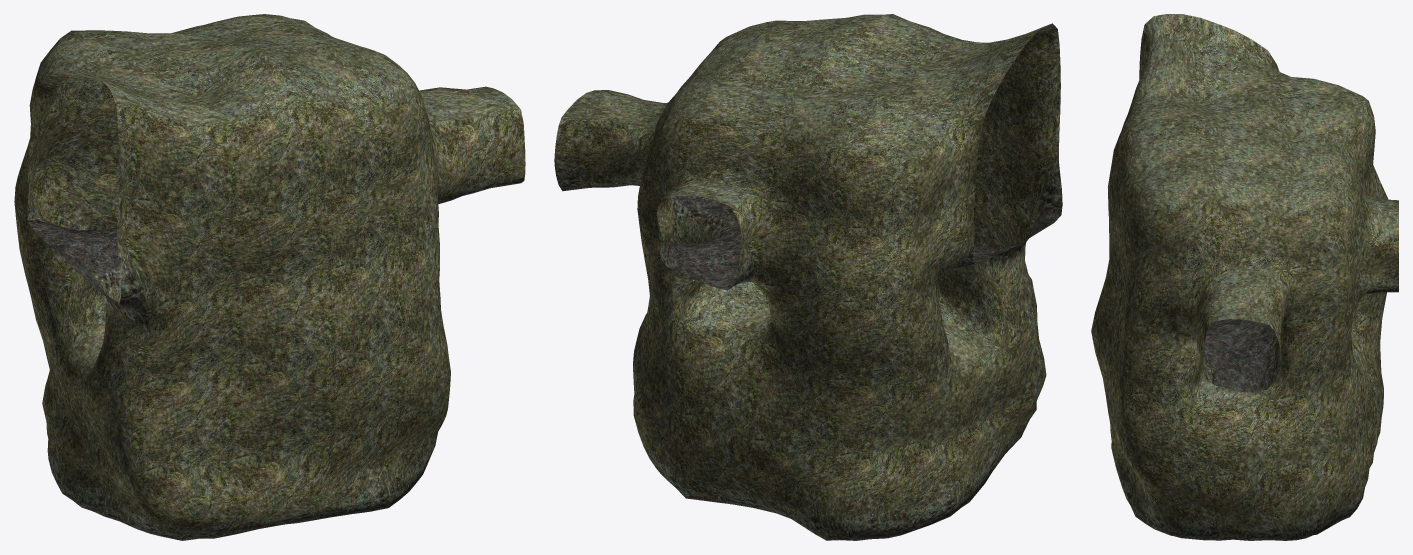
File: thm_all_cave_s01_damprock_mirror_r6_mesh_r6.fbx
The picture shows the model from 3 angles, left to right: view 1: azimuth 30°, elevation 25°; view 2: azimuth 150°, elevation 25°; view 3: azimuth 270°, elevation 25°; orthographic projection. The views are drawn at different scales.
Parts seen in each view (by area): view 1: mesh_node; view 2: mesh_node; view 3: mesh_node.
Part boxes in pixels (x1,y1,x2,y2): mesh_node: (14, 14, 525, 540); mesh_node: (554, 14, 1062, 540); mesh_node: (1091, 14, 1398, 540).
Bounding box in the file's own units: 55 × 58.14 × 39.83.
